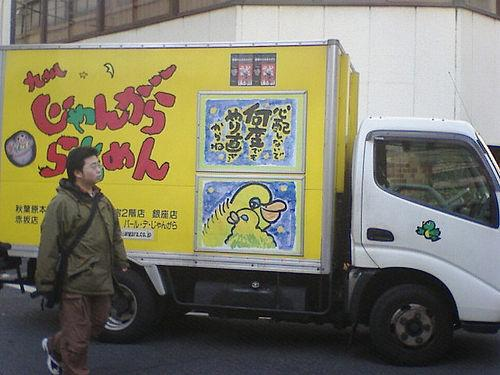truck: (0, 39, 500, 368)
